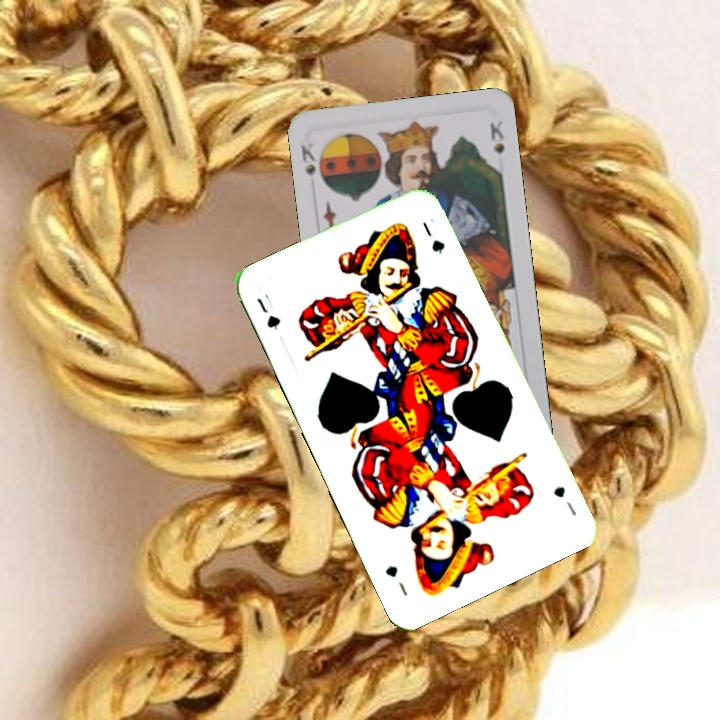GU: (252, 289, 284, 333), (549, 482, 580, 519)
SK: (296, 139, 318, 181)
